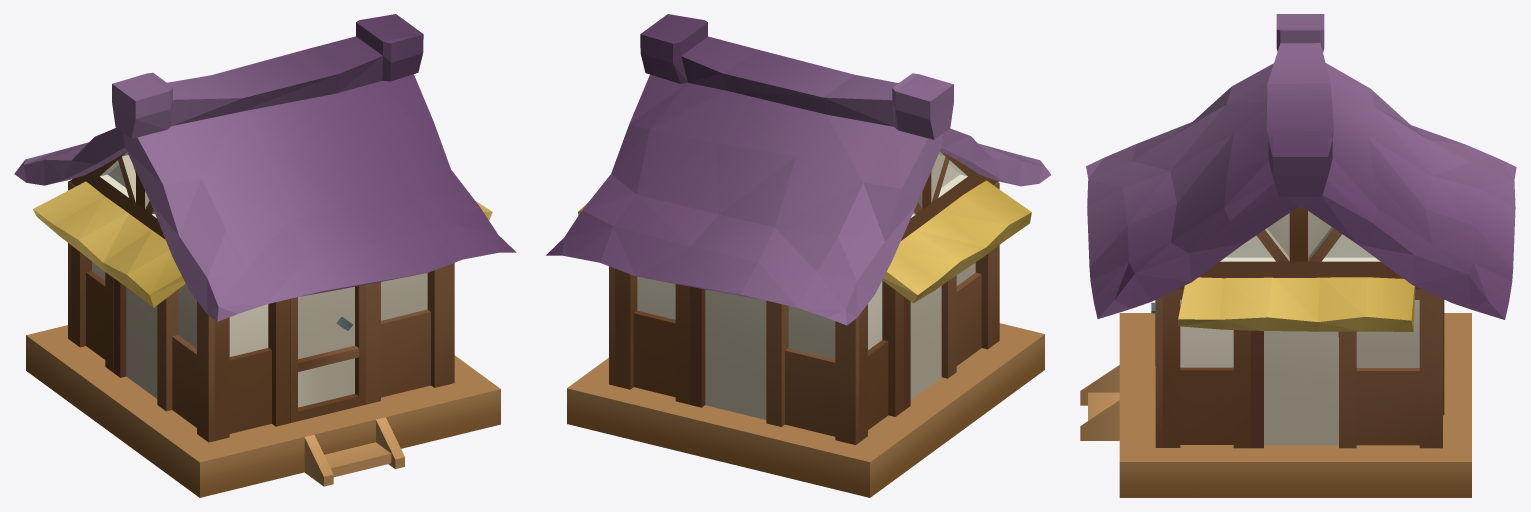
The model's file is House_3x3.gltf.
3 views of the same model, side by side, from view 1: azimuth 30°, elevation 25°; view 2: azimuth 150°, elevation 25°; view 3: azimuth 270°, elevation 25° (orthographic).
Visible parts, largest first — view 1: House_3x3_RoofOnly.001, House_3x3_Base.001, House_Wall_Corner.013, House_Wall_Corner.016, House_Door_1m.001, House_3x3_LowerRoof.002, House_Wall_Corner.014, House_Wall_1m.010, House_3x3_Gable.001; view 2: House_3x3_RoofOnly.001, House_3x3_Base.001, House_Wall_Corner.014, House_Wall_Corner.015, House_Wall_1m.007, House_3x3_LowerRoof.002, House_Wall_Corner.013, House_Wall_1m.010, House_3x3_Gable.001; view 3: House_3x3_RoofOnly.001, House_3x3_Base.001, House_Wall_Corner.015, House_3x3_LowerRoof.001, House_Wall_Corner.016, House_Wall_1m.009, House_3x3_Gable.002.
Boxes of the visible parts, bbox=[...] form: House_3x3_RoofOnly.001: bbox=[14, 14, 516, 321]; House_3x3_Base.001: bbox=[26, 325, 500, 497]; House_Wall_Corner.013: bbox=[157, 283, 290, 442]; House_Wall_Corner.016: bbox=[366, 263, 454, 404]; House_Door_1m.001: bbox=[290, 284, 366, 422]; House_3x3_LowerRoof.002: bbox=[33, 181, 185, 307]; House_Wall_Corner.014: bbox=[68, 181, 113, 372]; House_Wall_1m.010: bbox=[114, 278, 157, 398]; House_3x3_Gable.001: bbox=[69, 152, 165, 239]; House_3x3_RoofOnly.001: bbox=[546, 14, 1050, 325]; House_3x3_Base.001: bbox=[567, 323, 1044, 497]; House_Wall_Corner.014: bbox=[766, 280, 903, 444]; House_Wall_Corner.015: bbox=[609, 266, 690, 404]; House_Wall_1m.007: bbox=[690, 286, 766, 419]; House_3x3_LowerRoof.002: bbox=[882, 180, 1031, 303]; House_Wall_Corner.013: bbox=[941, 182, 999, 378]; House_Wall_1m.010: bbox=[904, 286, 941, 410]; House_3x3_Gable.001: bbox=[901, 151, 998, 240]; House_3x3_RoofOnly.001: bbox=[1086, 14, 1516, 319]; House_3x3_Base.001: bbox=[1080, 313, 1471, 497]; House_Wall_Corner.015: bbox=[1339, 289, 1444, 448]; House_3x3_LowerRoof.001: bbox=[1178, 277, 1415, 331]; House_Wall_Corner.016: bbox=[1155, 289, 1250, 448]; House_Wall_1m.009: bbox=[1250, 330, 1338, 448]; House_3x3_Gable.002: bbox=[1178, 206, 1421, 289].
Size of the model in its own units: 4.55 by 4.31 by 4.95.
1 material, 1 textured.
